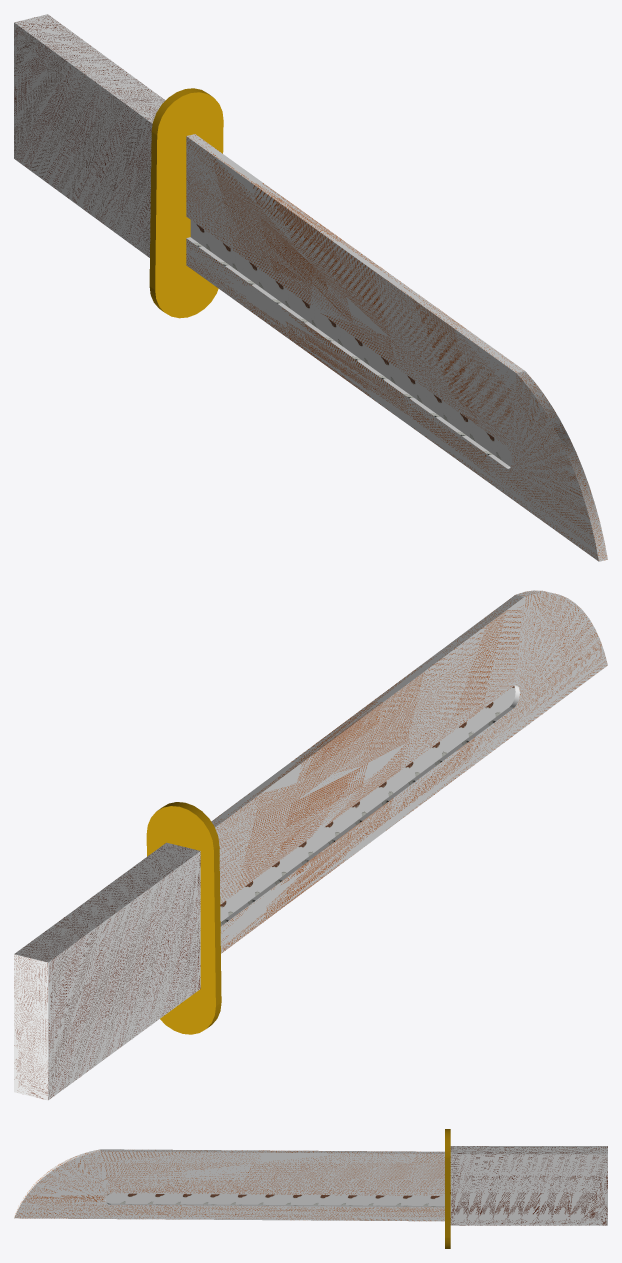
File: model_align.obj
The picture shows the model from 3 angles, top to bottom: view 1: azimuth 30°, elevation 25°; view 2: azimuth 150°, elevation 25°; view 3: azimuth 270°, elevation 25°; orthographic projection. The views are drawn at different scales.
Visible parts, largest first — view 1: mesh1_mesh1-geometry, mesh5_mesh5-geometry, mesh3_mesh3-geometry; view 2: mesh1_mesh1-geometry, mesh5_mesh5-geometry, mesh3_mesh3-geometry; view 3: mesh1_mesh1-geometry, mesh5_mesh5-geometry, mesh3_mesh3-geometry.
Part boxes in pixels (x1,y1,x2,y2): mesh1_mesh1-geometry: (186,134,607,561); mesh5_mesh5-geometry: (14,14,165,257); mesh3_mesh3-geometry: (149,88,223,318); mesh1_mesh1-geometry: (211,590,607,953); mesh5_mesh5-geometry: (14,842,200,1100); mesh3_mesh3-geometry: (146,802,221,1034); mesh1_mesh1-geometry: (14,1149,444,1221); mesh5_mesh5-geometry: (450,1146,607,1225); mesh3_mesh3-geometry: (445,1129,450,1248).
Bounding box in the file's own units: 0.0138 × 0.0432 × 0.199.
